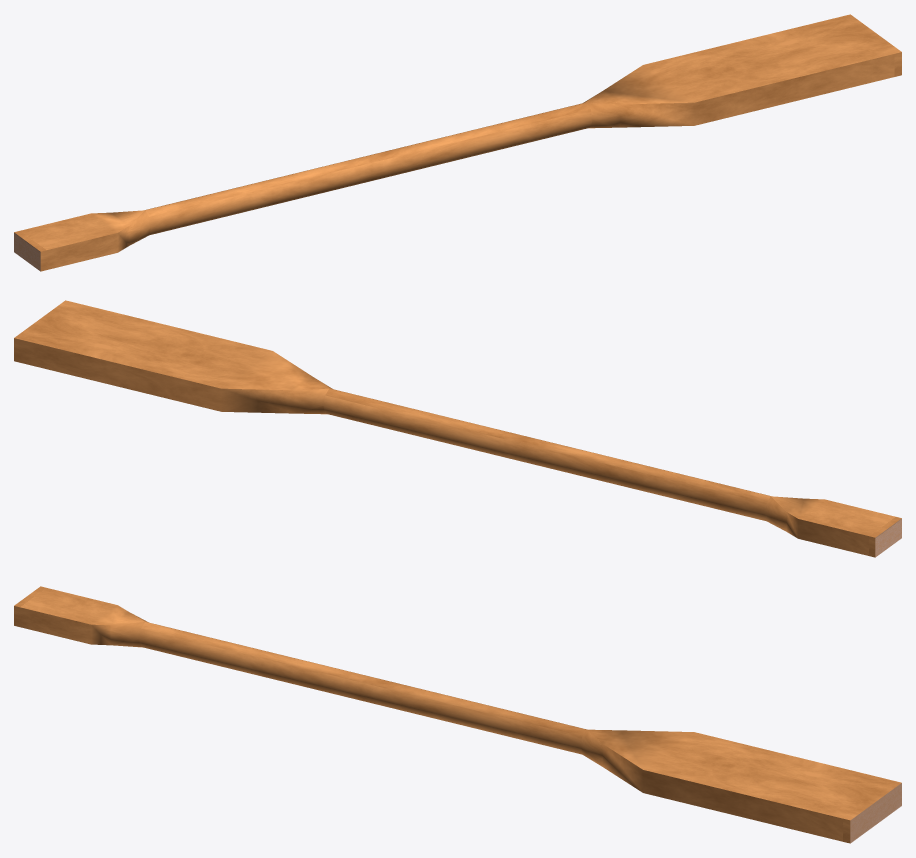
Rendered from Paddle.fbx.
3 renders of one model, top to bottom at view 1: azimuth 30°, elevation 25°; view 2: azimuth 150°, elevation 25°; view 3: azimuth 330°, elevation 25°, orthographic.
Parts seen in each view (by area): view 1: Paddle; view 2: Paddle; view 3: Paddle.
Part boxes in pixels (left/top/right/bottom): Paddle: left=14, top=14, right=901, bottom=271; Paddle: left=14, top=300, right=901, bottom=557; Paddle: left=14, top=586, right=901, bottom=843.
Size of the model in its own units: 1.5 by 0.0435 by 0.1577.
